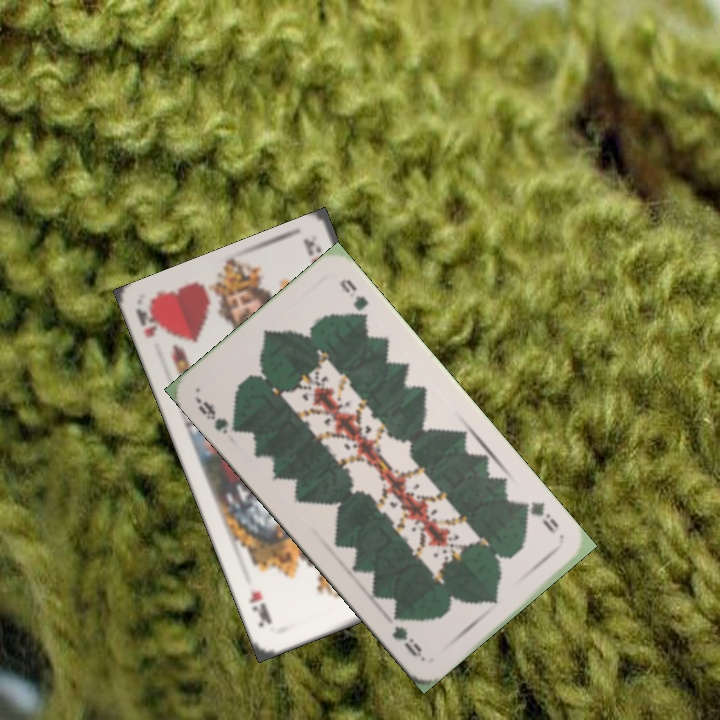G9: (517, 497, 561, 535), (194, 397, 231, 437)
HK: (132, 302, 165, 340)
